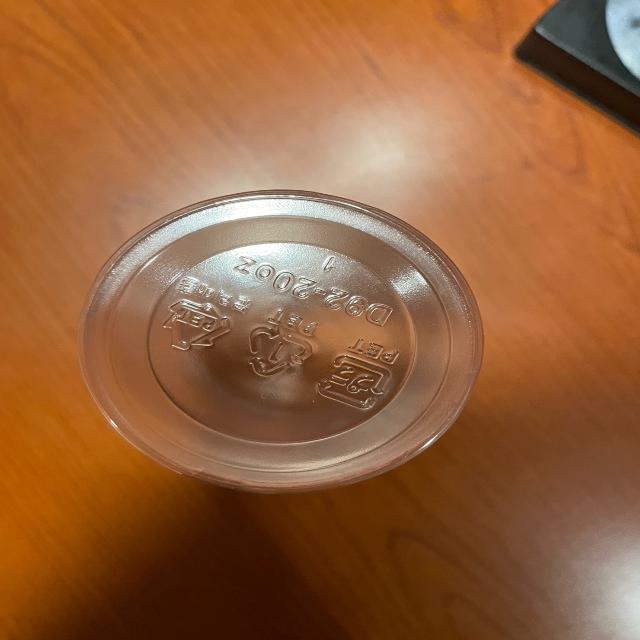pet: (161, 270, 250, 361), (313, 332, 402, 414), (239, 303, 321, 385)
